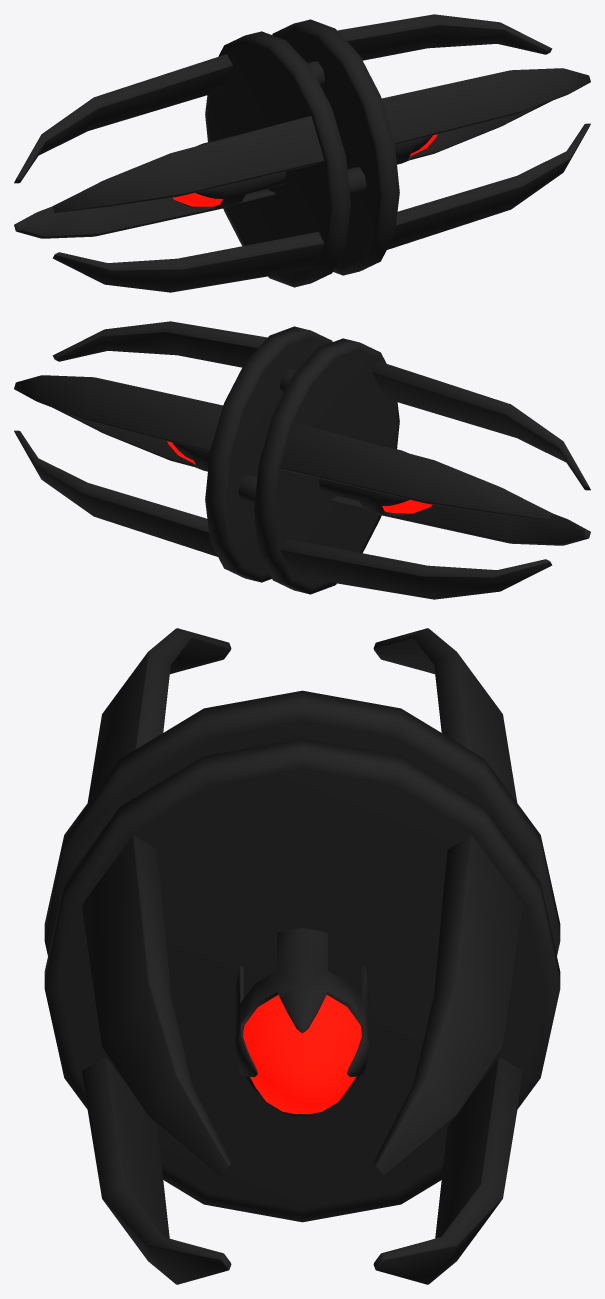
Rendered from Wall7_Finish.fbx.
The picture shows the model from 3 angles, top to bottom: view 1: azimuth 30°, elevation 25°; view 2: azimuth 150°, elevation 25°; view 3: azimuth 270°, elevation 25°; orthographic projection. The views are drawn at different scales.
Parts seen in each view (by area): view 1: Cylinder.000; view 2: Cylinder.000; view 3: Cylinder.000.
Part boxes in pixels (x1,y1,x2,y2): Cylinder.000: [14, 14, 590, 292]; Cylinder.000: [14, 321, 590, 599]; Cylinder.000: [44, 628, 560, 1284].
Bounding box in the file's own units: 1270 × 529 × 529.
